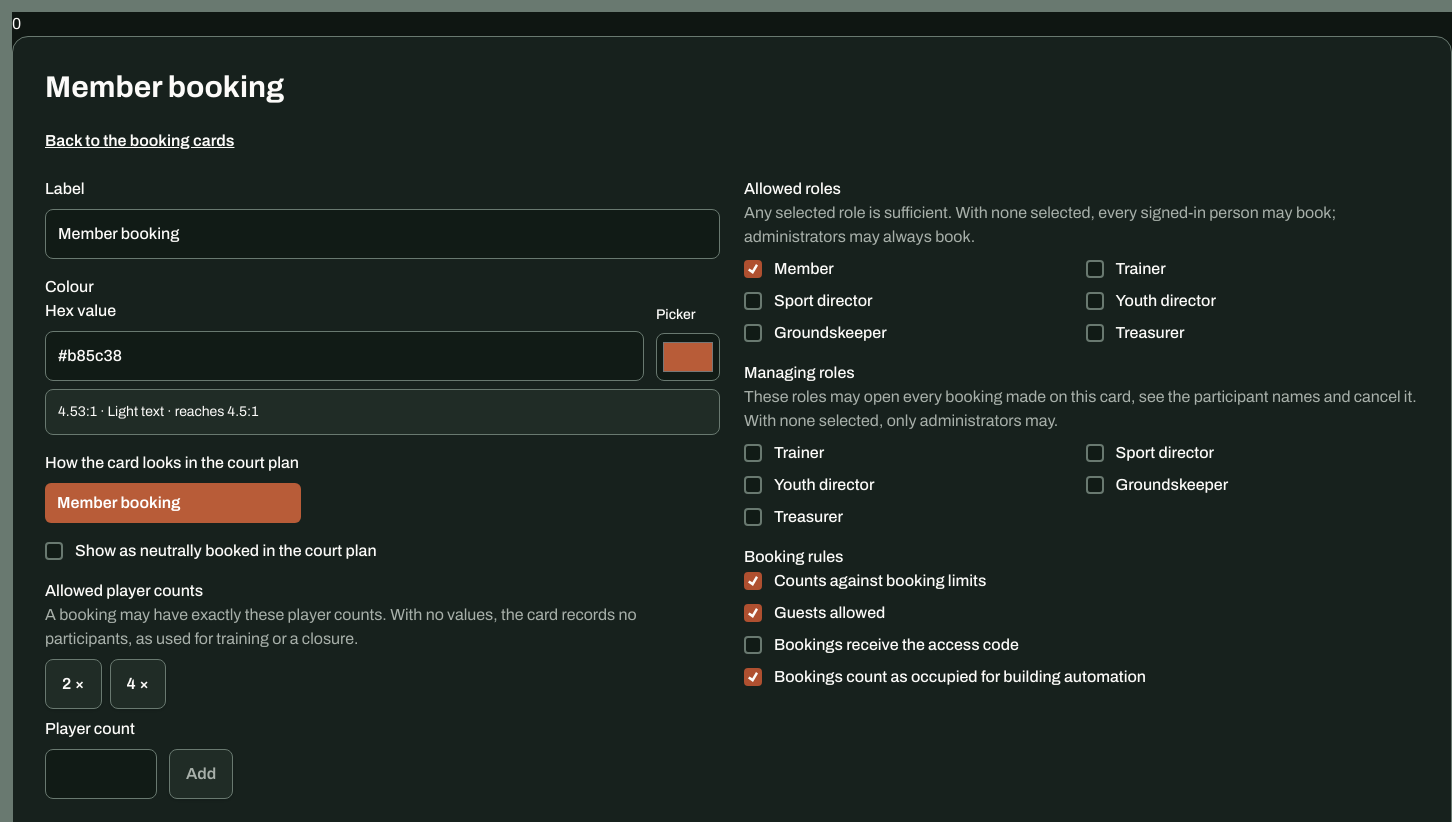
Scenario: AdminBookingCardView › given an edited card, when it is counted, then what is unsaved is the card being edited
Expected: the text with test id "unsaved-count" reads "0", [12,15,21,32]
In the field with test id "card-label": [382, 234] box [45,209,720,259], type "!"
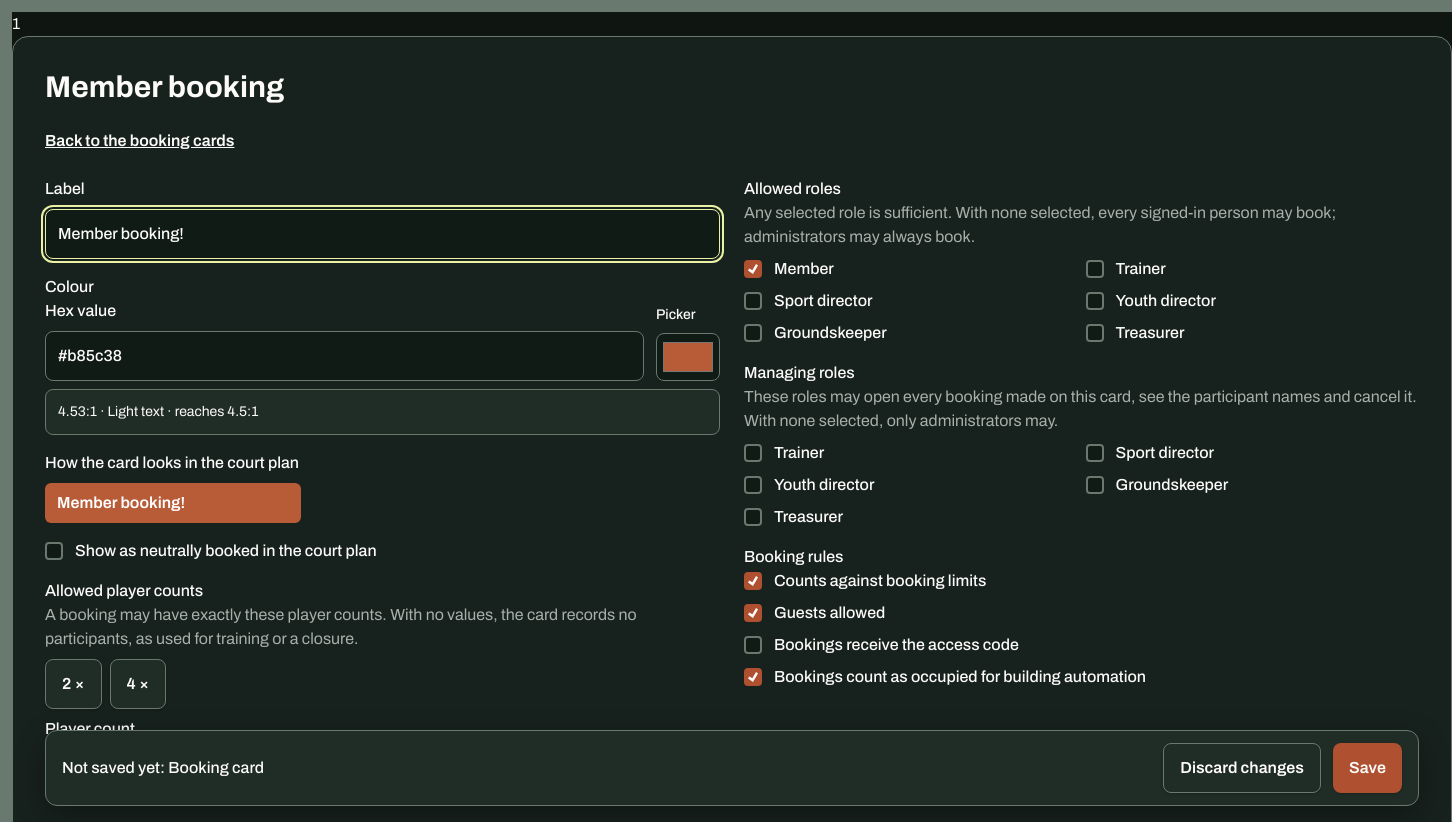
Expected: the text with test id "unsaved-count" reads "1", [12,15,20,32]
